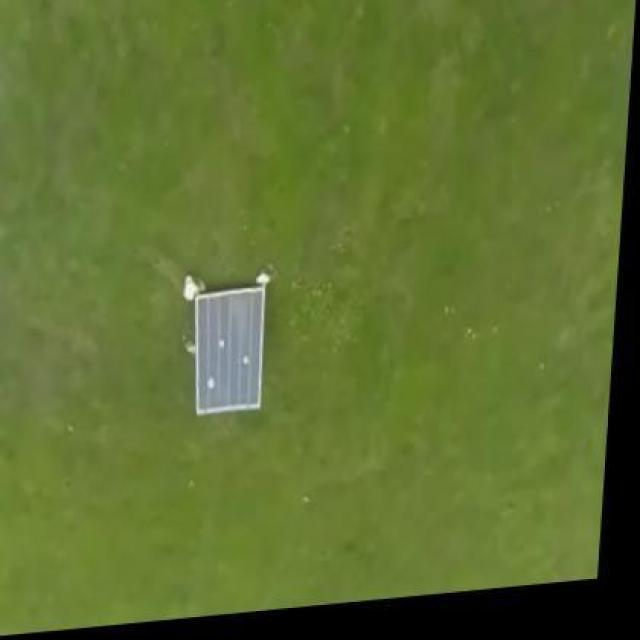soiled: (184, 279, 276, 419)
